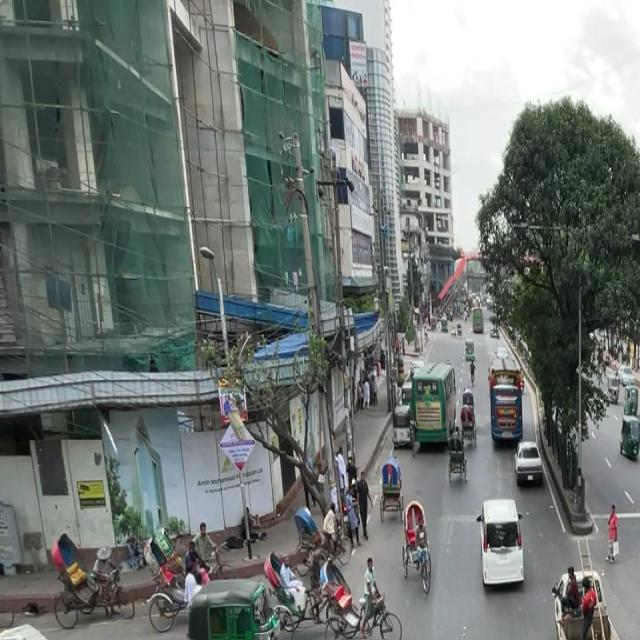bus: (410, 356, 459, 454), (484, 348, 525, 448)
car: (469, 486, 535, 599), (509, 428, 548, 496)
rickshaw: (182, 572, 292, 640), (617, 413, 640, 462)
van: (554, 562, 635, 640)
